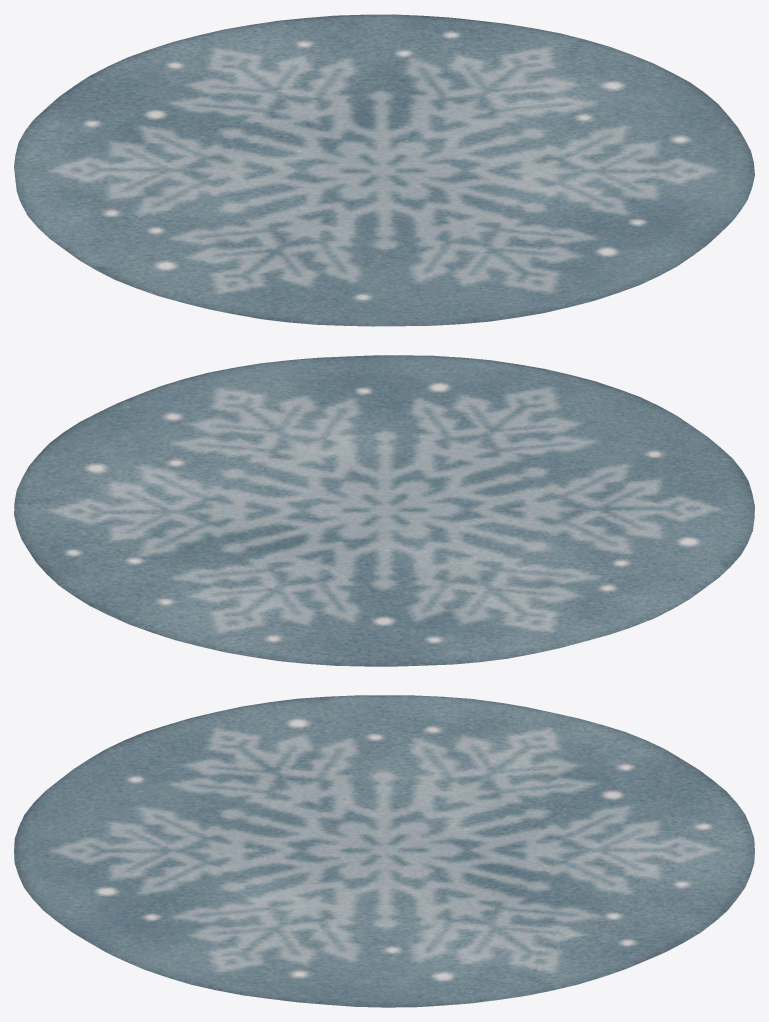
File: RugRoundSnowM00.glb
3 views of the same model, one above another, from view 1: azimuth 30°, elevation 25°; view 2: azimuth 150°, elevation 25°; view 3: azimuth 270°, elevation 25° (orthographic).
Visible parts, largest first — view 1: Main__mMain; view 2: Main__mMain; view 3: Main__mMain.
Part boxes in pixels (x1=…): Main__mMain: x1=14, y1=14, x2=754, y2=326; Main__mMain: x1=14, y1=355, x2=754, y2=666; Main__mMain: x1=14, y1=695, x2=754, y2=1007.
Bounding box in the file's own units: 29.9 × 0.03 × 30.
1 material, 1 textured.
